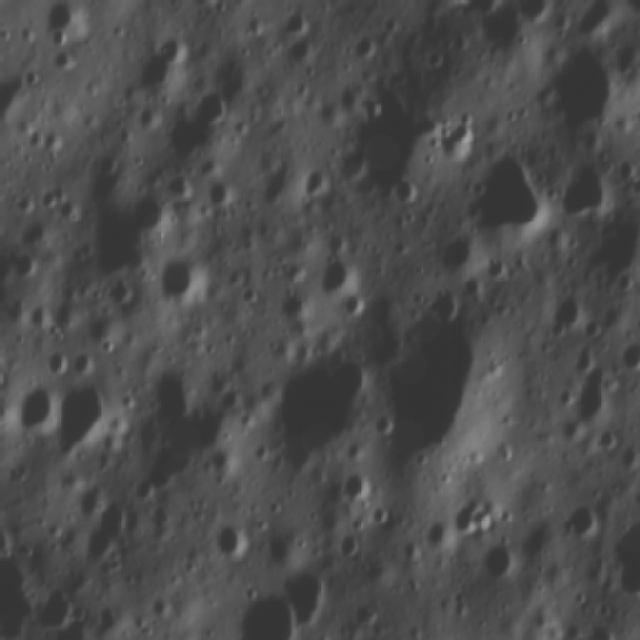crater: (375, 308, 517, 488), (328, 84, 448, 216), (268, 346, 380, 476), (455, 148, 557, 252), (81, 186, 176, 285), (541, 36, 628, 138), (584, 204, 640, 297), (184, 388, 245, 470), (52, 380, 115, 457), (555, 149, 617, 225), (281, 555, 333, 627), (237, 586, 306, 640), (2, 382, 68, 436), (129, 48, 188, 106), (156, 250, 212, 308), (452, 479, 499, 547), (607, 512, 640, 606), (557, 490, 605, 548), (313, 245, 361, 302), (432, 223, 478, 280), (43, 0, 92, 48), (481, 538, 525, 591), (434, 115, 480, 162), (542, 288, 586, 334), (189, 82, 233, 126), (420, 284, 463, 328), (294, 163, 337, 205), (335, 463, 380, 503), (147, 27, 195, 64), (344, 24, 384, 68), (328, 523, 367, 563), (200, 174, 238, 214), (515, 0, 563, 28), (158, 167, 196, 202), (465, 0, 520, 22), (428, 0, 482, 22), (44, 37, 76, 74), (614, 332, 640, 374), (282, 7, 315, 39), (184, 0, 233, 14), (612, 0, 640, 23), (635, 444, 640, 525), (631, 385, 640, 426), (360, 0, 414, 3)
